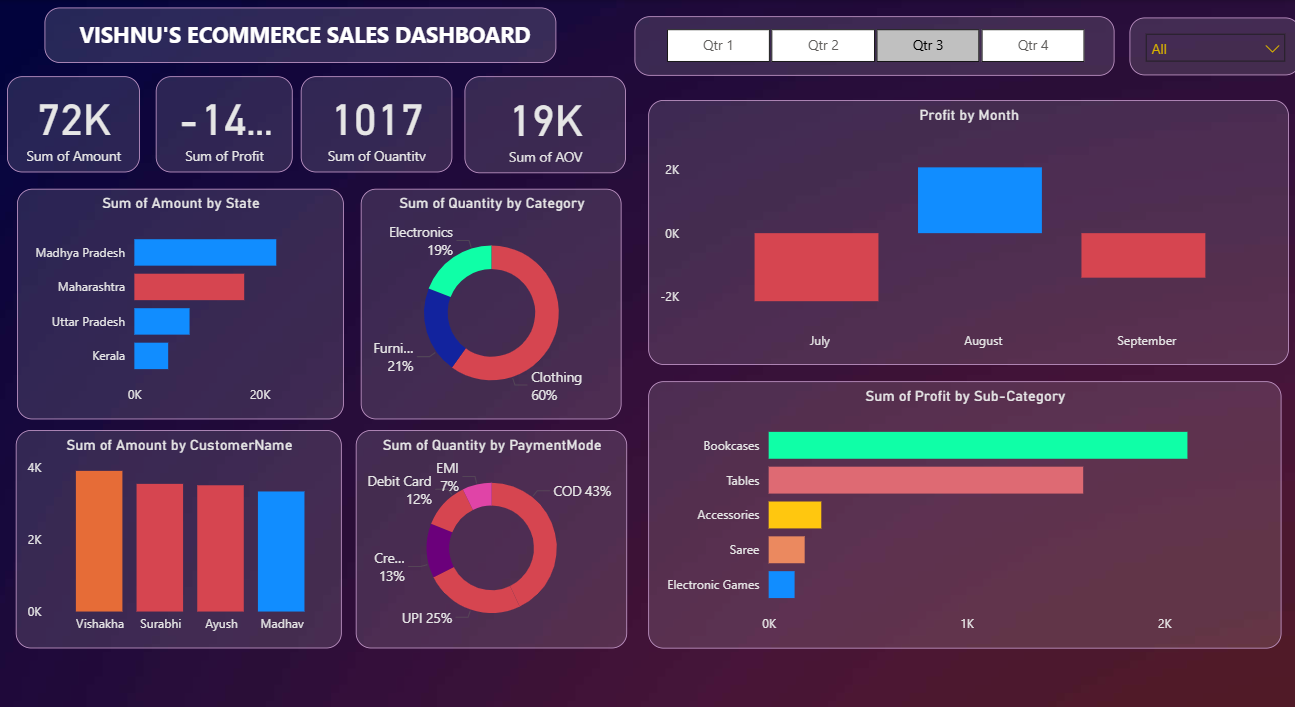

What the dashboard file says about the page in this screenshot:
{"tool":"powerbi","page":{"name":"Page 1","canvas":[1280,720],"ordinal":0},"visuals":[{"type":"textbox","box":[46.9,7.1,502,54.1],"z":0},{"type":"columnChart","title":"Profit by Month","fields":{"Category":["Orders.Order Date.Variation.Date Hierarchy.Month"],"Y":["Sum(Details.Profit)"]},"box":[639.8,98,628.6,260.2],"z":1000},{"type":"barChart","fields":{"Category":["Details.Sub-Category"],"Y":["Sum(Details.Profit)"]},"box":[639.8,374.5,621.4,262.2],"z":2000},{"type":"donutChart","fields":{"Category":["Details.Category"],"Y":["Sum(Details.Quantity)"]},"box":[357.1,184.7,256.1,226.5],"z":3000},{"type":"donutChart","fields":{"Category":["Details.PaymentMode"],"Y":["Sum(Details.Quantity)"]},"box":[352,422.4,266.3,214.3],"z":4000},{"type":"card","fields":{"Values":["Sum(Details.Amount)"]},"box":[10,74.3,130.6,94.4],"z":5000},{"type":"card","fields":{"Values":["Sum(Details.Quantity)"]},"box":[298.4,74.3,148.7,94.4],"z":6000},{"type":"card","fields":{"Values":["Sum(Details.Profit)"]},"box":[155.7,74.3,134.6,94.4],"z":7000},{"type":"card","fields":{"Values":["Sum(Details.AOV)"]},"box":[459.2,74.3,158.7,95.4],"z":8000},{"type":"barChart","fields":{"Category":["Orders.State"],"Y":["Sum(Details.Amount)"]},"box":[19.4,184.7,320.4,226.5],"z":9000},{"type":"columnChart","fields":{"Category":["Orders.CustomerName"],"Y":["Sum(Details.Amount)"]},"box":[19,422,320,214],"z":10000},{"type":"slicer","fields":{"Values":["Orders.Order Date.Variation.Date Hierarchy.Quarter"]},"box":[625.5,16.3,471.4,58.2],"z":11000},{"type":"slicer","fields":{"Values":["Orders.State"]},"box":[1111.2,17.3,168.4,57.1],"z":12000}]}

Visuals, with their boxes in screenshot pixels (x1, y1, x2, y2):
textbox: [left=47, top=0, right=552, bottom=24]
"Profit by Month" columnChart: [left=643, top=61, right=1276, bottom=323]
barChart - Details.Sub-Category x Sum(Details.Profit): [left=643, top=340, right=1268, bottom=603]
donutChart - Details.Category x Sum(Details.Quantity): [left=359, top=149, right=617, bottom=376]
donutChart - Details.PaymentMode x Sum(Details.Quantity): [left=354, top=388, right=622, bottom=603]
card - Sum(Details.Amount): [left=10, top=38, right=141, bottom=133]
card - Sum(Details.Quantity): [left=300, top=38, right=450, bottom=133]
card - Sum(Details.Profit): [left=157, top=38, right=292, bottom=133]
card - Sum(Details.AOV): [left=462, top=38, right=621, bottom=134]
barChart - Orders.State x Sum(Details.Amount): [left=20, top=149, right=342, bottom=376]
columnChart - Orders.CustomerName x Sum(Details.Amount): [left=19, top=387, right=341, bottom=603]
slicer - Orders.Order Date.Variation.Date Hierarchy.Quarter: [left=629, top=0, right=1103, bottom=38]
slicer - Orders.State: [left=1118, top=0, right=1287, bottom=38]
